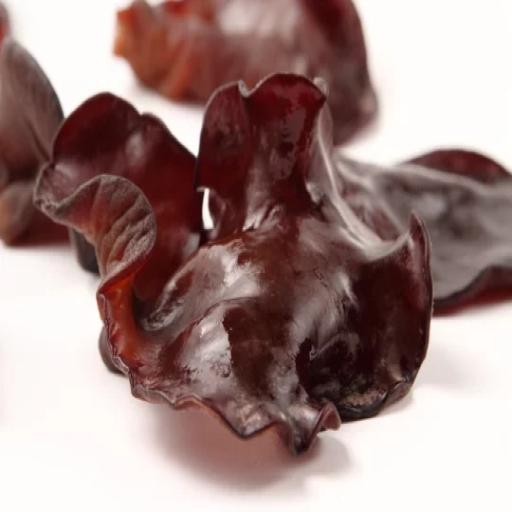mushroom: (36, 85, 458, 486), (112, 1, 387, 158), (357, 127, 512, 323), (0, 0, 76, 252)
